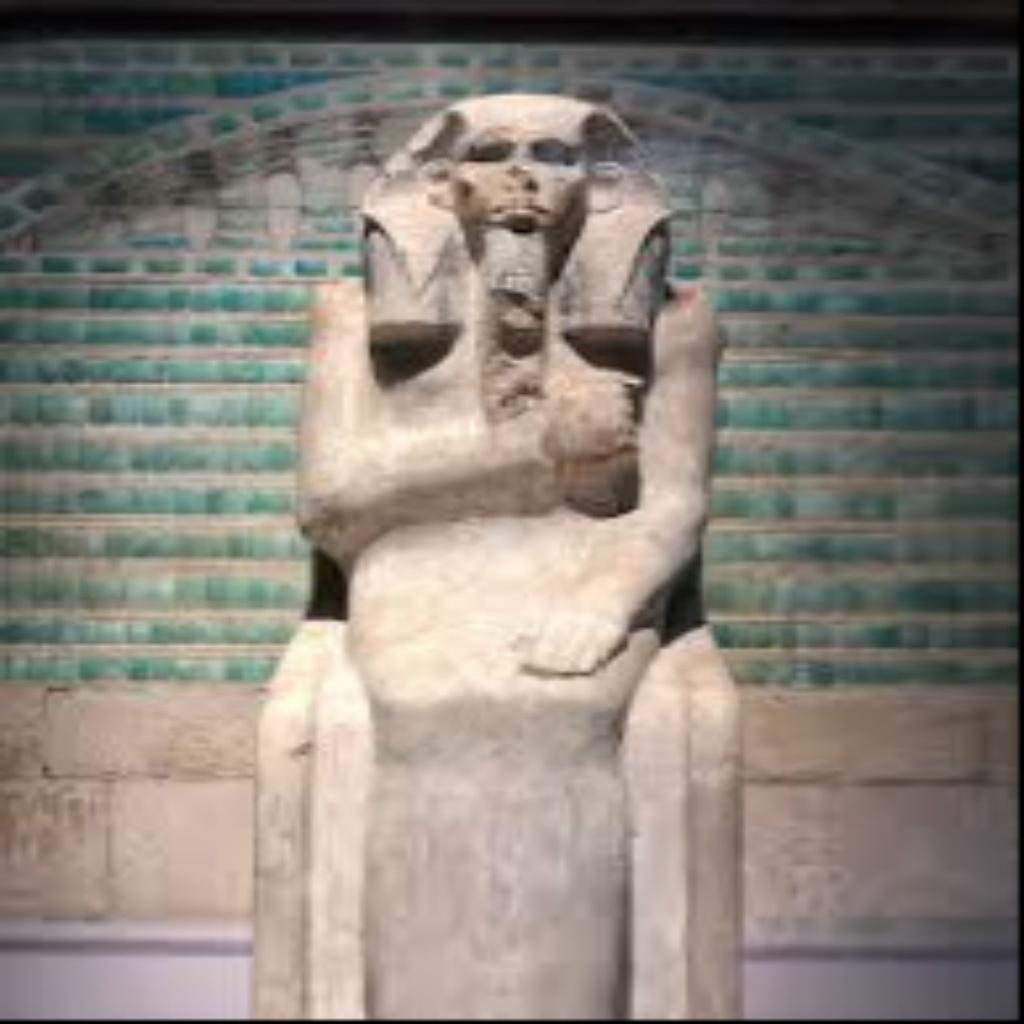Statue of King Zoser: (242, 83, 750, 1016)
